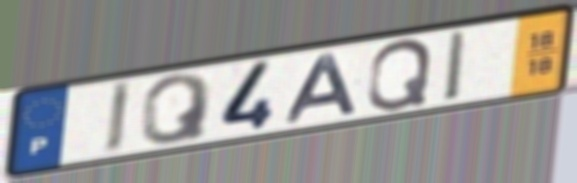4: (216, 56, 283, 135)
A: (283, 50, 362, 126)
I: (101, 77, 135, 158), (443, 27, 470, 105)
Q: (138, 70, 216, 147), (364, 35, 436, 113)
